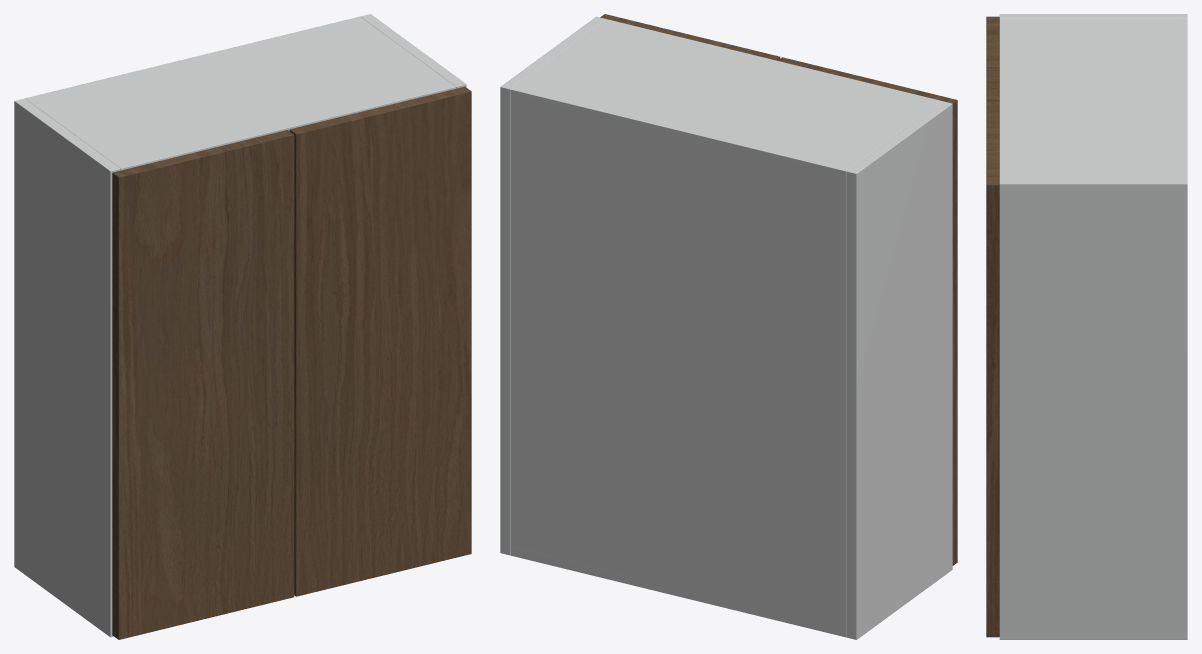
The model's file is oppein-ply-mso-w2430.glb.
The picture shows the model from 3 angles, left to right: view 1: azimuth 30°, elevation 25°; view 2: azimuth 150°, elevation 25°; view 3: azimuth 270°, elevation 25°; orthographic projection. The views are drawn at different scales.
Visible parts, largest first — view 1: Door, Door.001, Cabinet side, Cabinet top, Cabinet back, Cabinet side.001; view 2: Cabinet back, Cabinet side, Cabinet top, Cabinet side.001, Door, Cabinet bottom, Door.001; view 3: Cabinet side.001, Cabinet top, Door.001, Cabinet back, Door, Cabinet side.
Boxes of the visible parts, x1,y1,x2,y2 form: Door: (112,130,294,639); Door.001: (289,86,471,596); Cabinet side: (14,98,120,637); Cabinet top: (25,19,455,170); Cabinet back: (25,16,363,100); Cabinet side.001: (360,14,466,88); Cabinet back: (511,86,849,636); Cabinet side: (846,101,952,639); Cabinet top: (511,19,941,180); Cabinet side.001: (500,16,606,555); Door: (777,57,957,565); Cabinet bottom: (511,545,846,637); Door.001: (600,14,780,60); Cabinet side.001: (999,179,1187,639); Cabinet top: (999,19,1187,178); Door.001: (986,101,999,637); Cabinet back: (1180,19,1187,178); Door: (986,16,999,101); Cabinet side: (999,14,1187,18).
Size of the model in its own units: 0.6096 by 0.762 by 0.3048.
2 materials, 1 textured.
